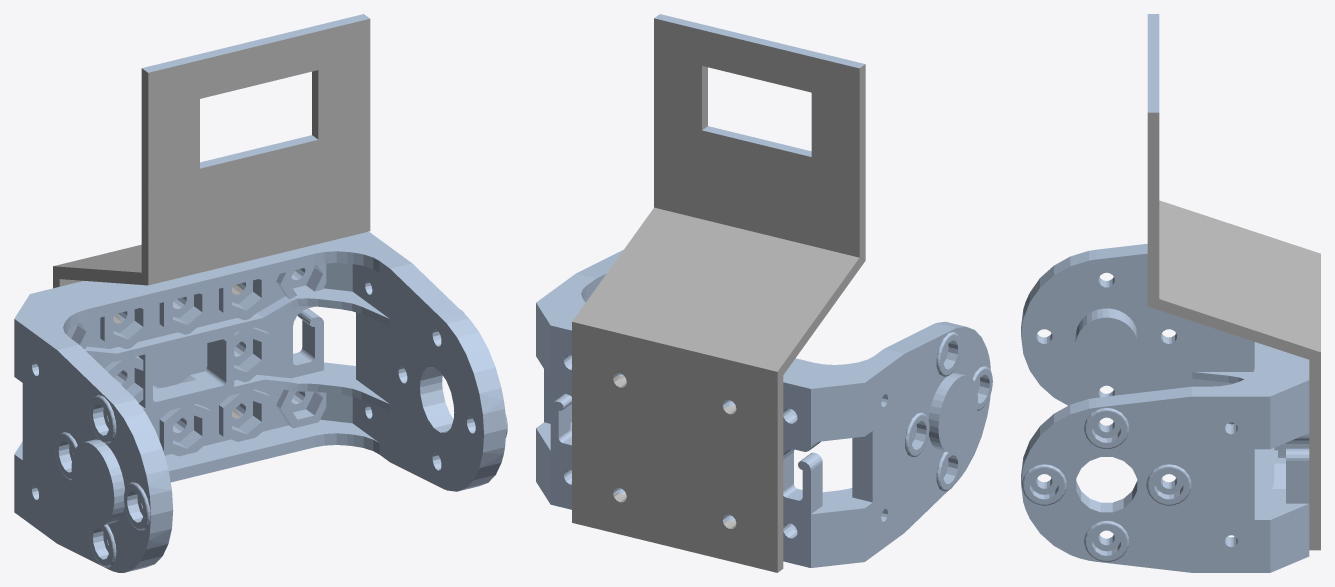
The model's file is finger.dae.
3 views of the same model, side by side, from view 1: azimuth 30°, elevation 25°; view 2: azimuth 150°, elevation 25°; view 3: azimuth 270°, elevation 25° (orthographic). The views are drawn at different scales.
Parts seen in each view (by area): view 1: finger; view 2: finger; view 3: finger.
Part boxes in pixels (x1,y1,x2,y2): finger: (14, 14, 507, 572); finger: (536, 14, 992, 572); finger: (1021, 14, 1320, 572).
Bounding box in the file's own units: 0.0499 × 0.0385 × 0.062.
